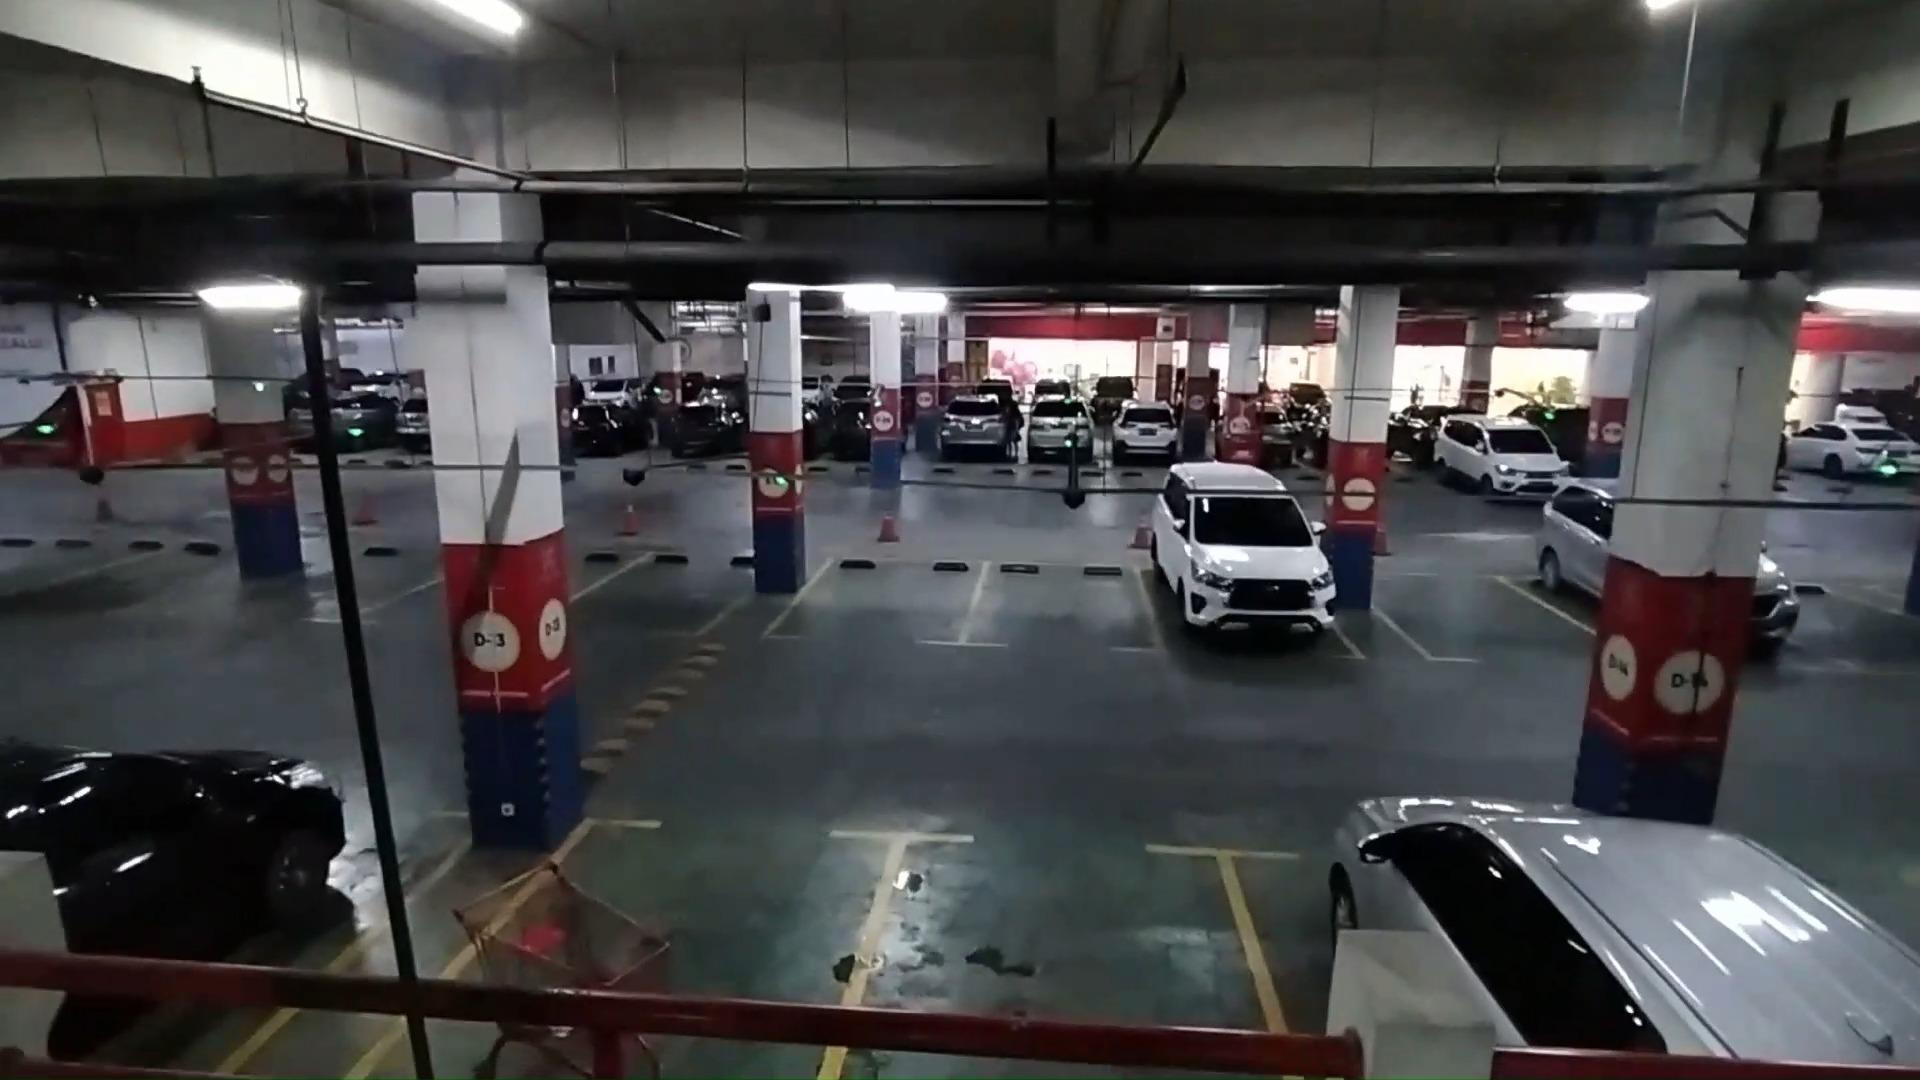empty: (857, 830, 1279, 1036), (1374, 570, 1565, 663), (976, 551, 1147, 651), (796, 552, 974, 648), (614, 546, 754, 639)
occupied: (1146, 502, 1342, 656)
